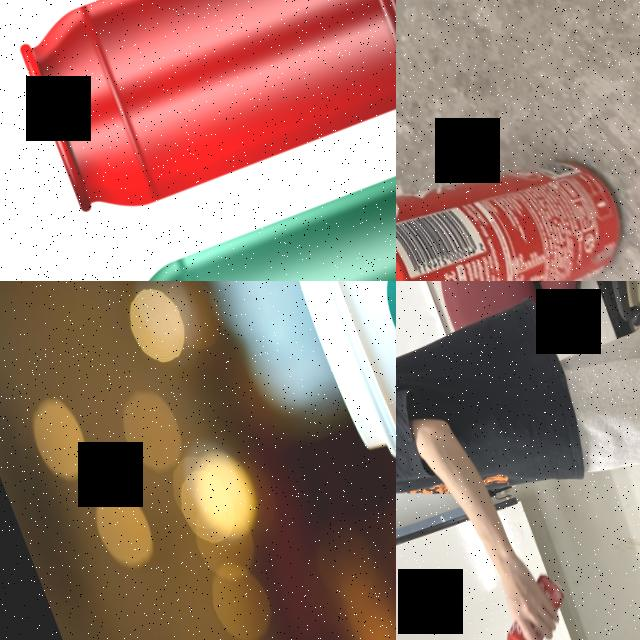can: (5, 0, 396, 229), (396, 107, 640, 281), (104, 148, 396, 281), (485, 565, 583, 640)
cup: (274, 281, 396, 476)
